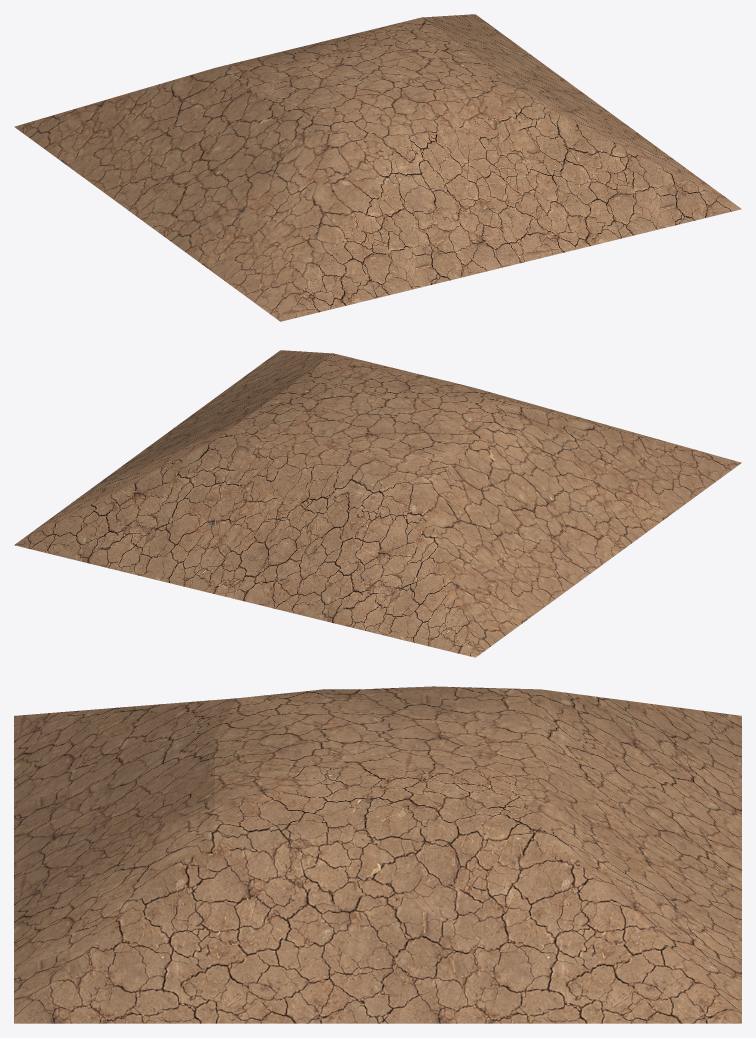
File: tower_soil.FBX
The picture shows the model from 3 angles, top to bottom: view 1: azimuth 30°, elevation 25°; view 2: azimuth 150°, elevation 25°; view 3: azimuth 270°, elevation 25°; orthographic projection. The views are drawn at different scales.
Parts seen in each view (by area): view 1: tower_soil; view 2: tower_soil; view 3: tower_soil.
Part boxes in pixels (bbox=[...]): tower_soil: bbox=[14, 14, 741, 321]; tower_soil: bbox=[14, 350, 741, 657]; tower_soil: bbox=[14, 686, 741, 1023].
Bounding box in the file's own units: 37.8 × 7.42 × 37.8.
1 material, 1 textured.
